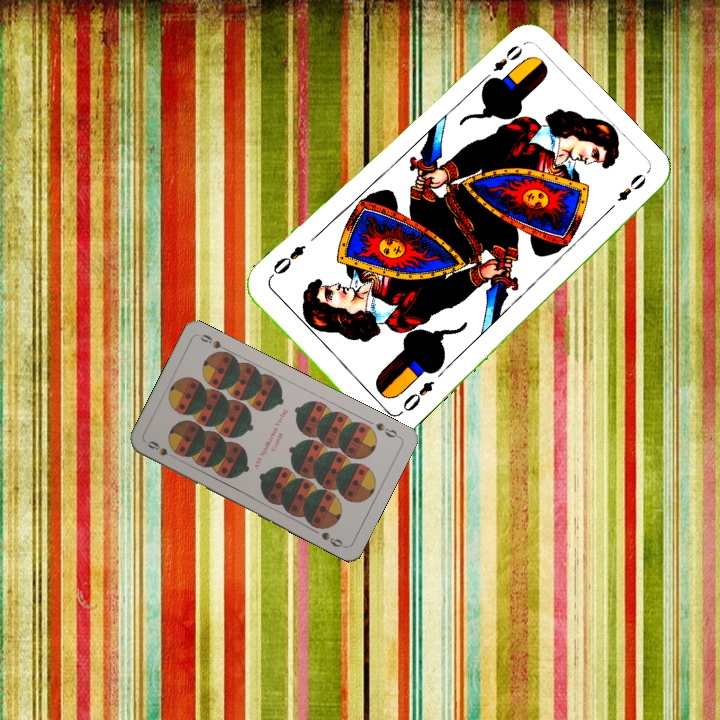EO: (477, 41, 526, 86), (395, 376, 437, 418)
S9: (372, 418, 402, 440), (143, 437, 170, 458)
